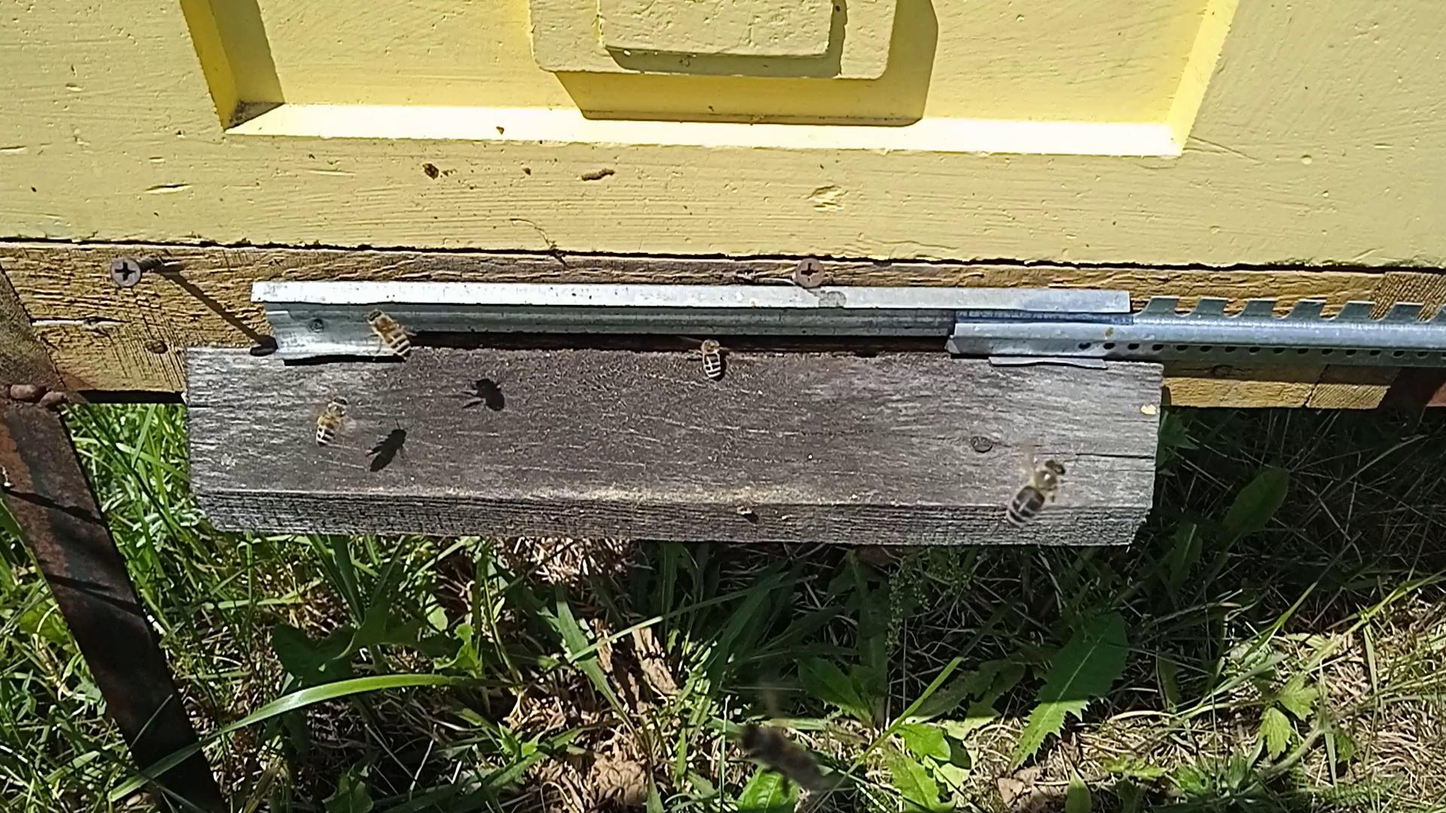worker-bee: (738, 722, 827, 788), (1006, 457, 1068, 527), (365, 307, 415, 356), (314, 396, 351, 448), (696, 336, 725, 381)
